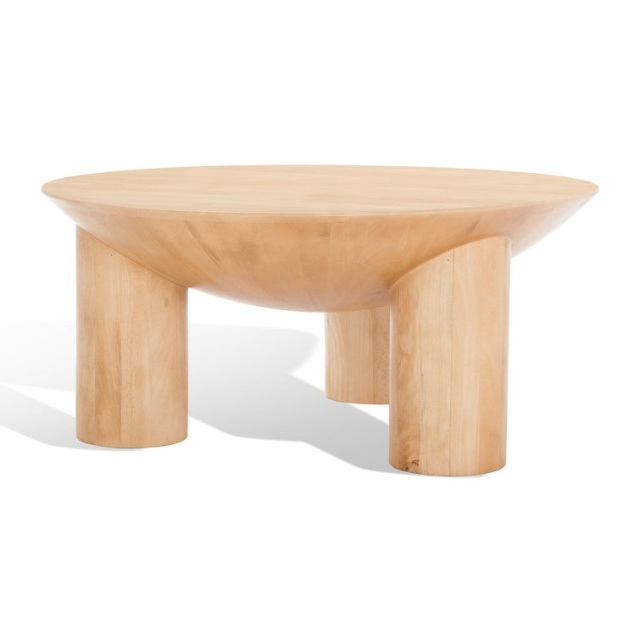obstacle: (42, 165, 596, 475)
